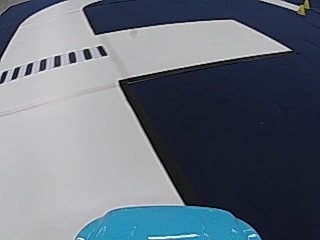CrossWalk: (6, 45, 105, 79)
